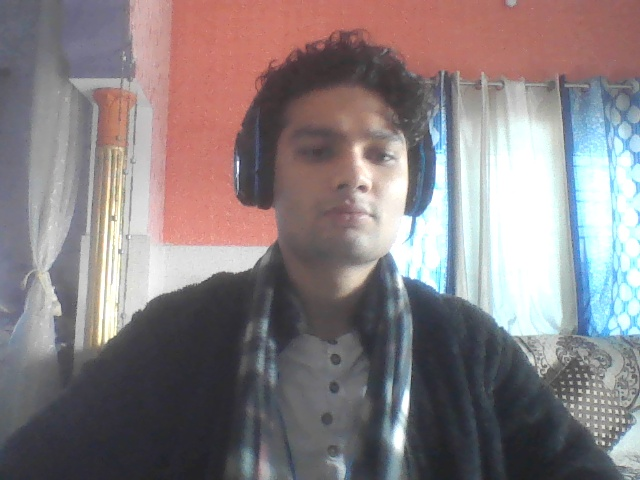real: (252, 37, 421, 276)
